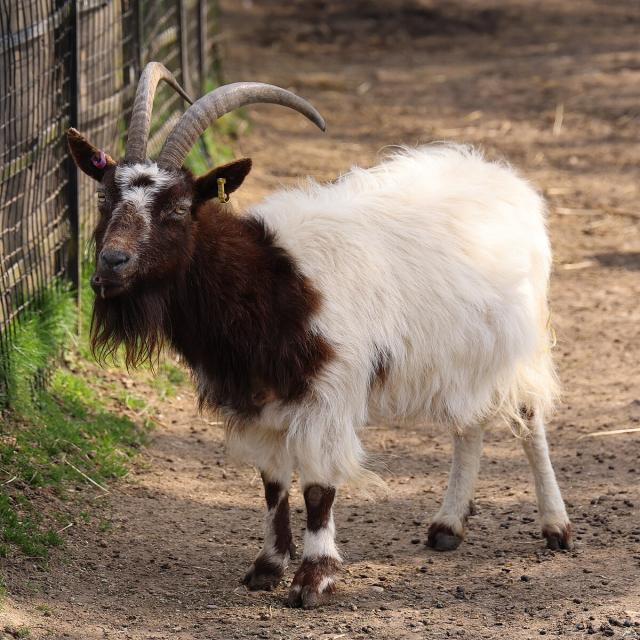Goat: (66, 61, 574, 604)
